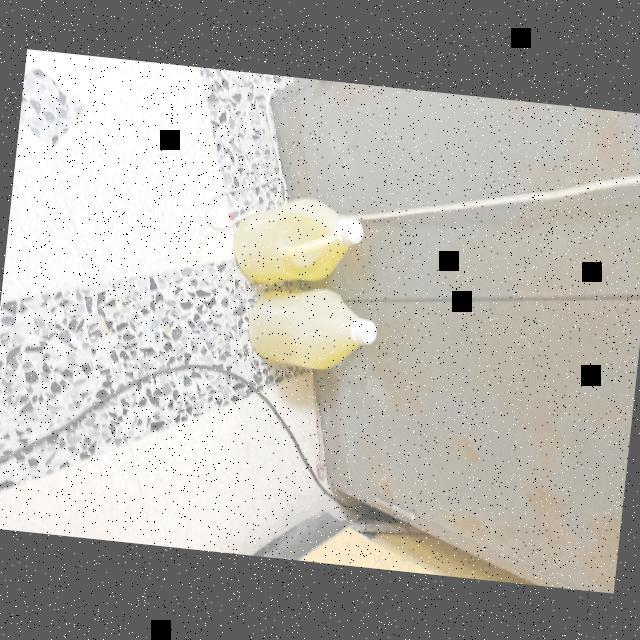chemical_plastic_gallon: (228, 185, 369, 292), (243, 278, 385, 377)
